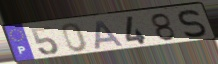0: (61, 21, 90, 53)
4: (124, 14, 149, 46)
5: (29, 25, 60, 56)
8: (150, 12, 177, 42)
A: (93, 19, 126, 50)
S: (177, 8, 209, 39)
